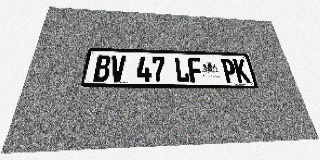4: (137, 56, 151, 82)
7: (151, 56, 166, 82)
B: (93, 55, 111, 82)
F: (188, 57, 204, 82)
K: (232, 59, 251, 83)
L: (174, 57, 190, 82)
P: (220, 58, 238, 83)
V: (109, 55, 126, 82)
